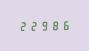eight: (48, 19, 57, 30)
nine: (38, 20, 47, 30)
six: (58, 19, 67, 30)
two: (18, 20, 27, 31), (28, 20, 37, 31)
